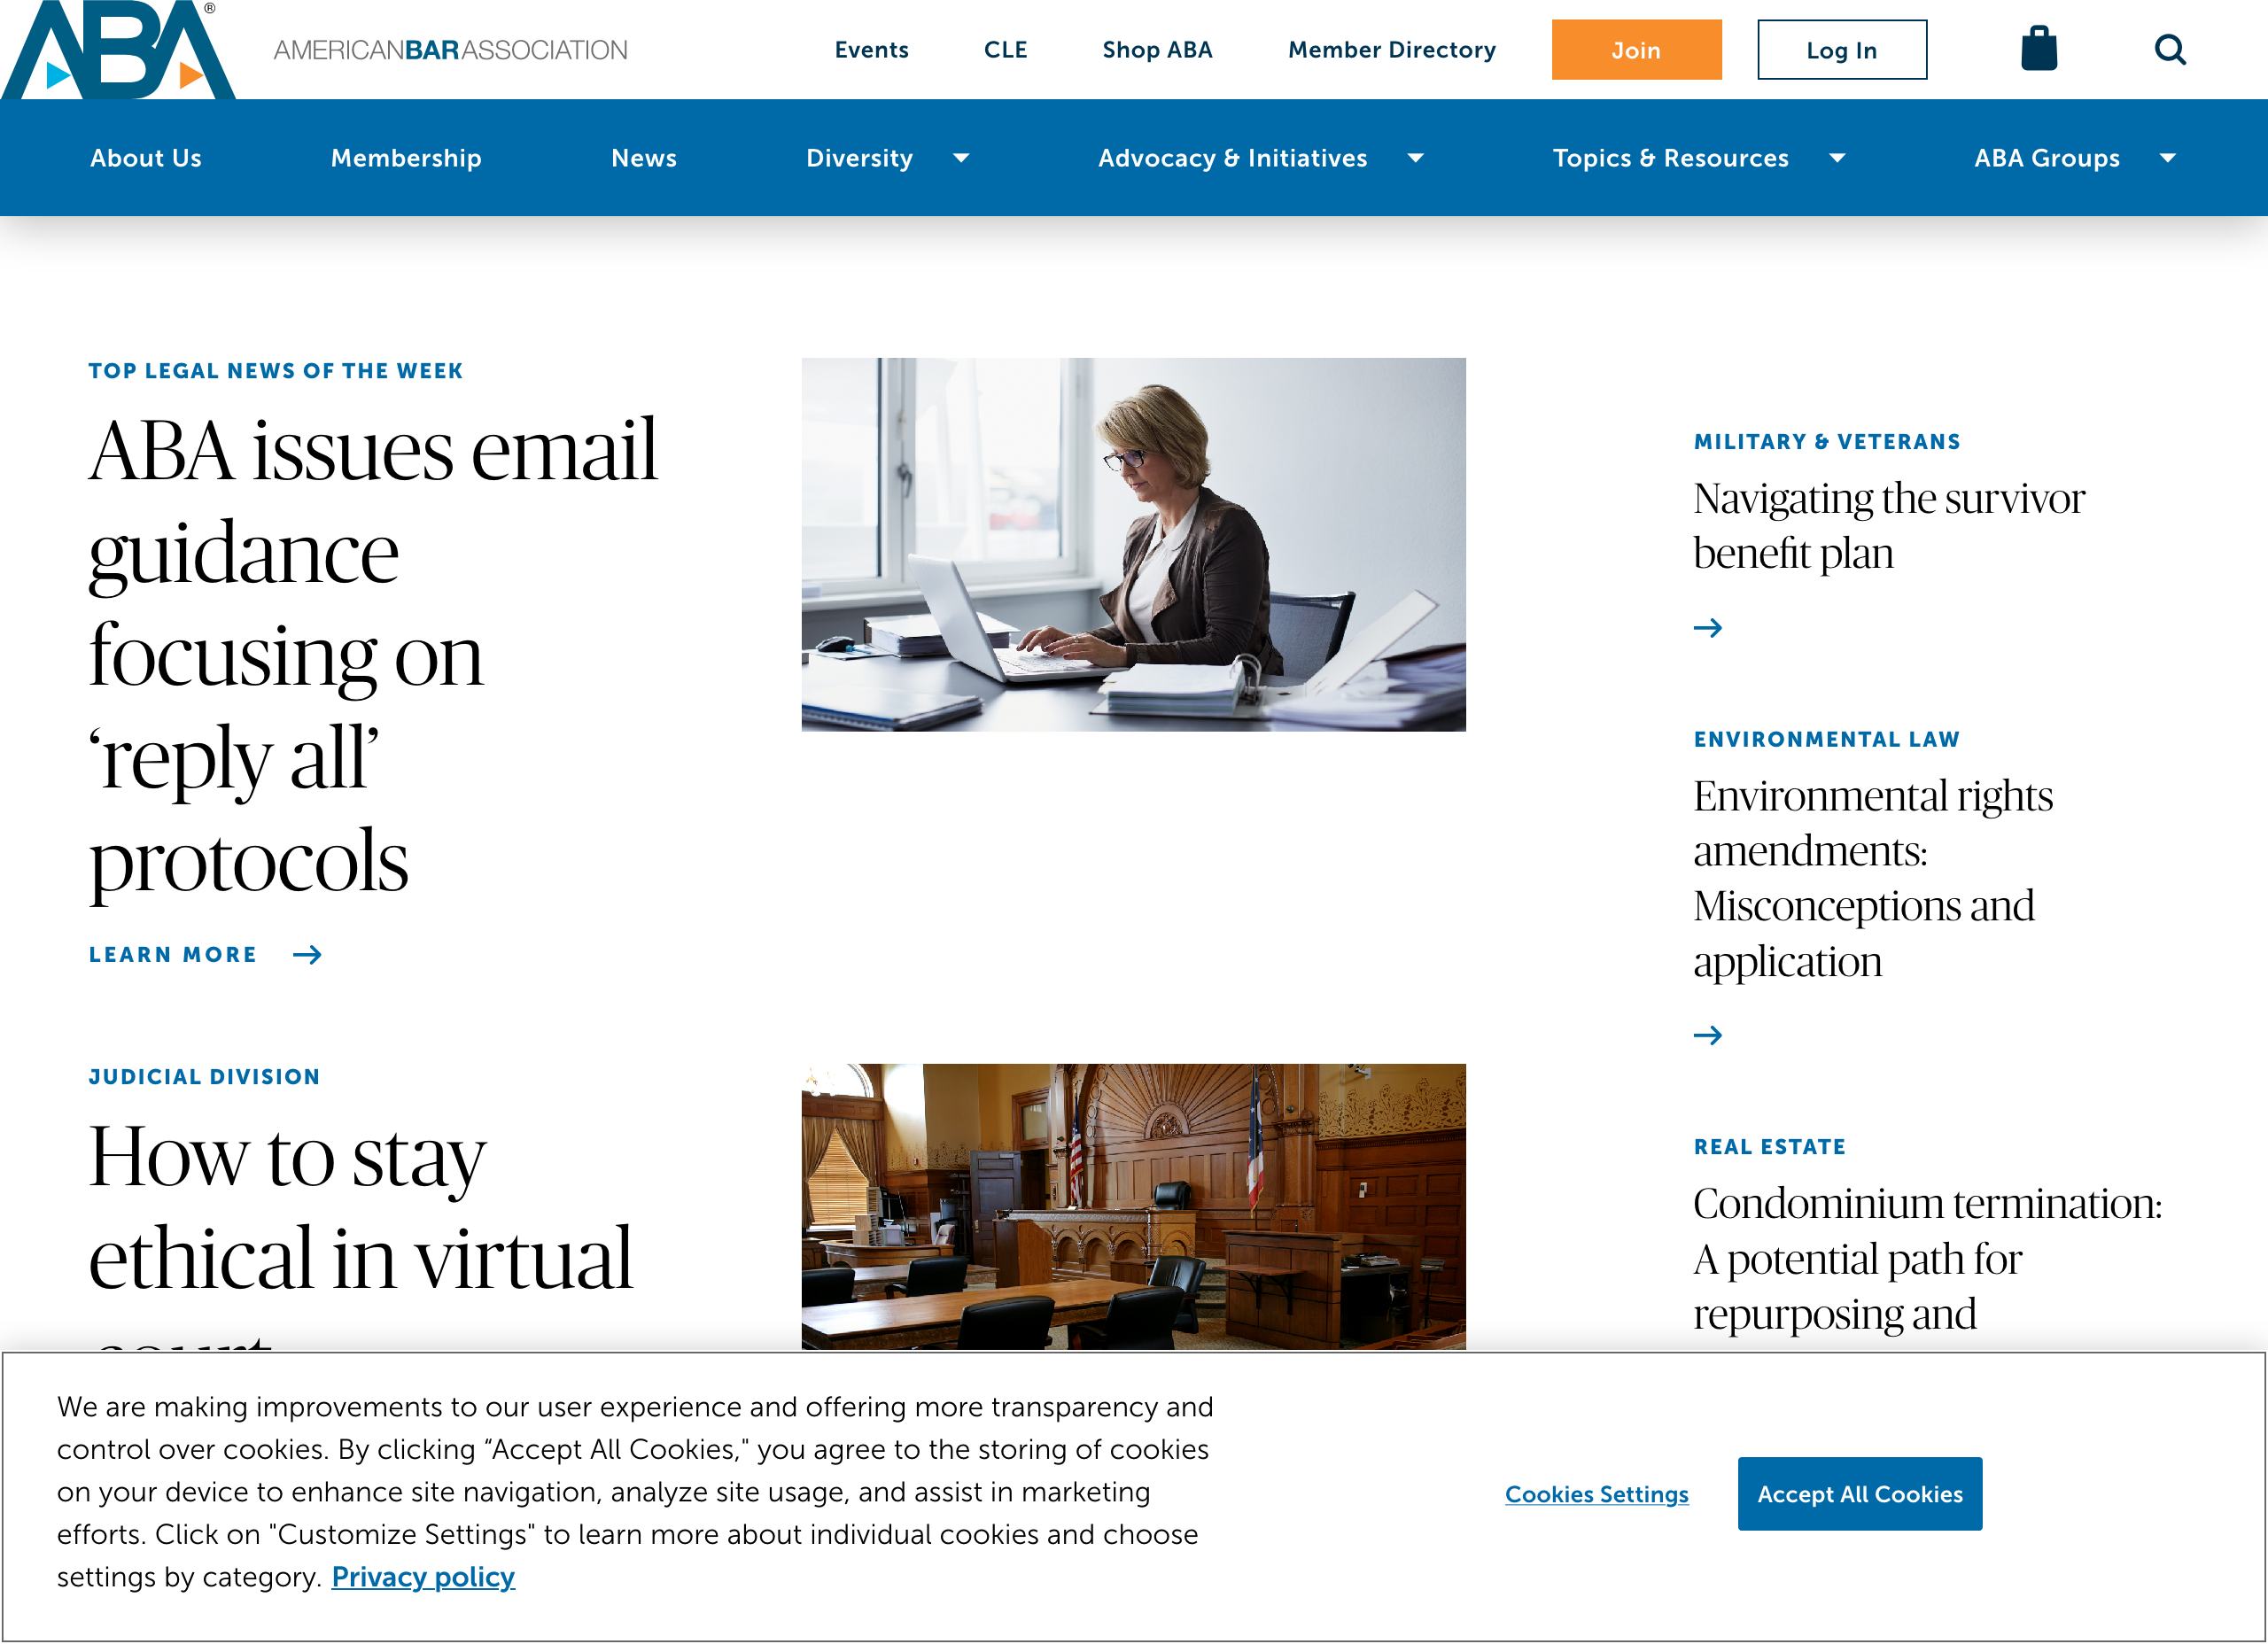Login: (1745, 5, 1937, 88)
